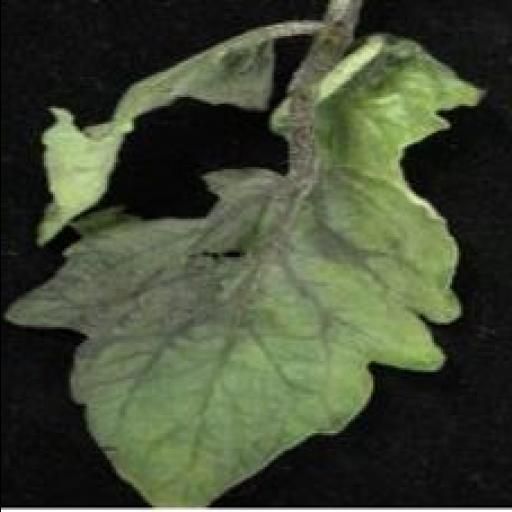disease_tomato: (0, 29, 481, 505)
